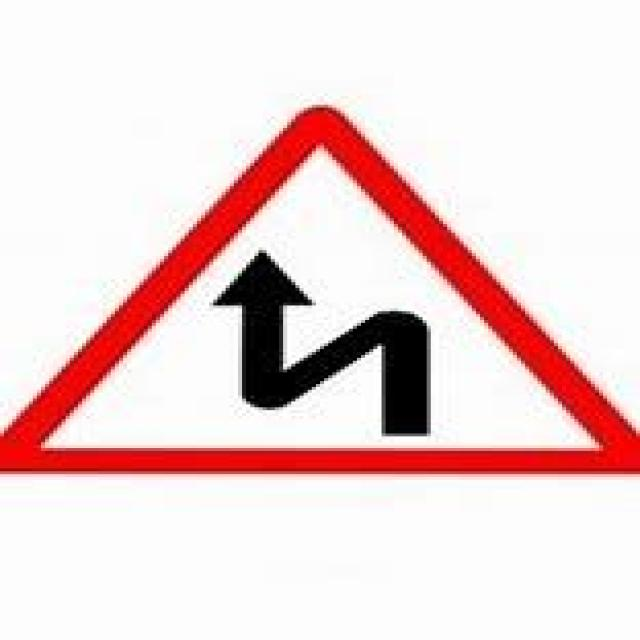LEFT_REVERSE_BEND: (0, 108, 640, 474)
